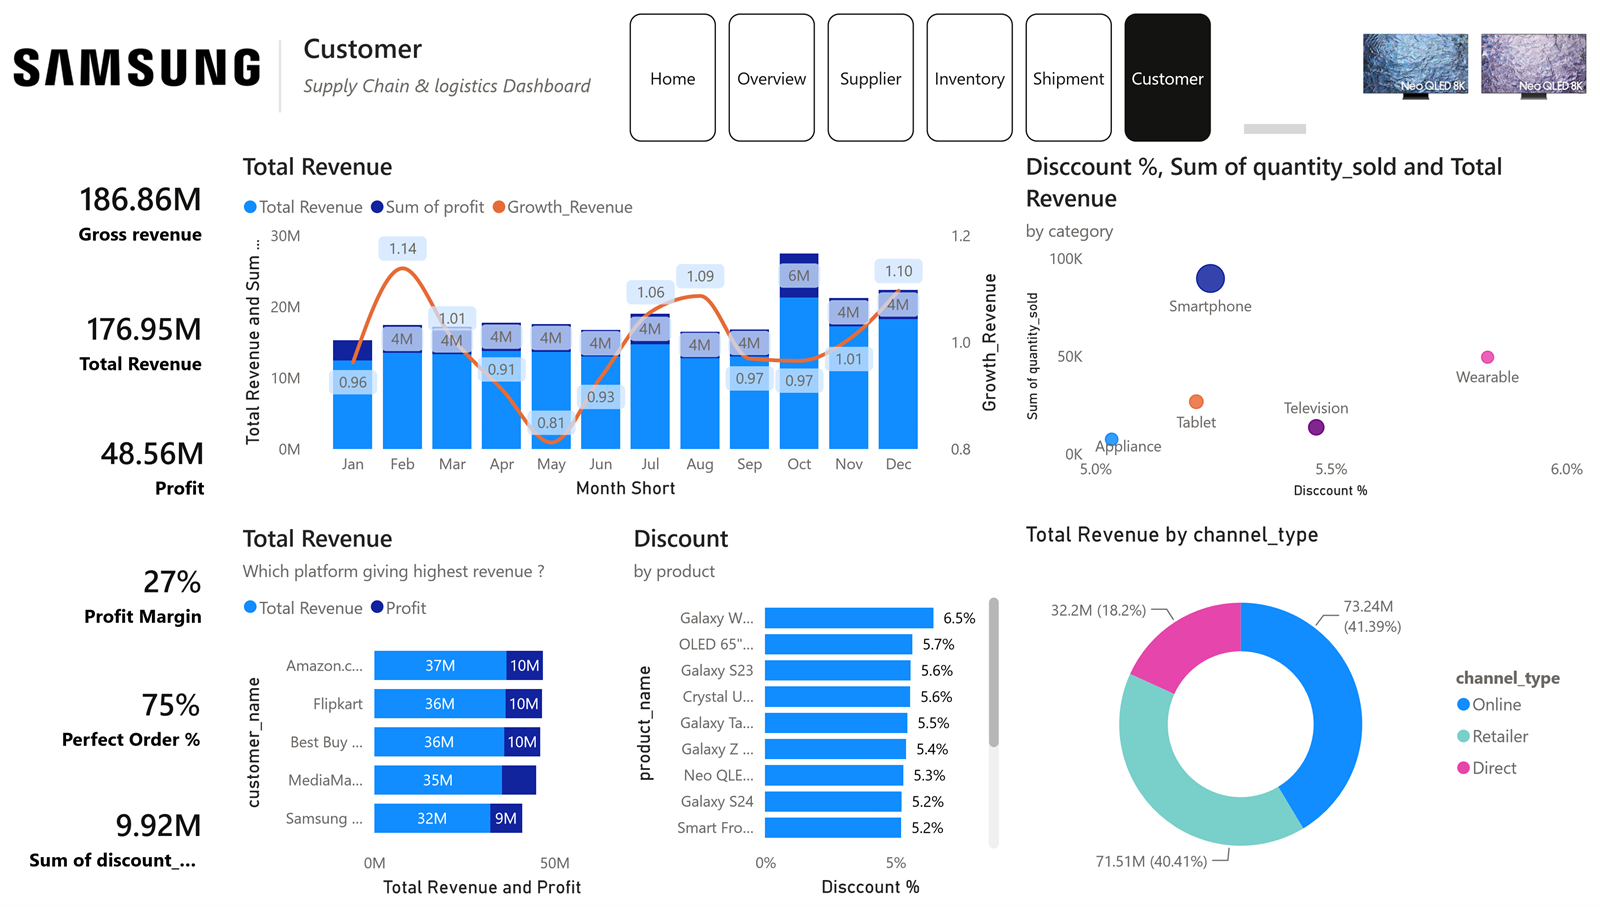

What the dashboard file says about the page in this screenshot:
{"tool":"powerbi","page":{"name":"Customer","canvas":[1280,720],"ordinal":5},"visuals":[{"type":"pageNavigator","box":[509.9,9.8,459.2,101.4],"z":0,"group":"g3"},{"type":"shape","title":"Customer","box":[253.1,22,448.8,66],"z":0},{"type":"donutChart","fields":{"Category":["dim_customer.channel_type"],"Y":["Measures-.Total Revenue"]},"box":[816.9,409.9,449.3,301.4],"z":0,"group":"g2"},{"type":"advancedSlicerVisual","fields":{"Values":["dim_product.product_name"]},"box":[989,5.8,281.7,105.6],"z":1000,"group":"g3"},{"type":"shape","box":[200.5,30.6,67.3,57.5],"z":1000},{"type":"image","box":[8.6,6.1,216.4,91.7],"z":2000},{"type":"group","id":"g1","title":"Group 2","box":[5.6,107,198.6,604.2],"z":3000},{"type":"cardVisual","fields":{"Data":["Measure Table.Total Revenue"]},"box":[5.6,210.5,196.1,114.7],"z":4000,"group":"g1"},{"type":"barChart","title":"Total Revenue","fields":{"Category":["dim_customer.customer_name"],"Y":["Measures-.Total Revenue","Measures-.Profit"]},"box":[200,409.9,295.8,301.4],"z":4000},{"type":"cardVisual","fields":{"Data":["Measure Table.Profit"]},"box":[5.7,306.7,198.6,118.4],"z":5000,"group":"g1"},{"type":"group","id":"g2","title":"Group 1","box":[816.9,409.9,449.3,301.4],"z":5000},{"type":"lineStackedColumnComboChart","title":"Total Revenue","fields":{"Category":["dim_date.Month Short"],"Y":["Measures-.Total Revenue","Sum(fact_sales.profit)"],"Y2":["Measures-.Growth_Revenue"]},"box":[200,116.9,605.6,280.3],"z":6000},{"type":"cardVisual","fields":{"Data":["Measure Table.Profit Margin"]},"box":[7.2,406.6,194.9,120.8],"z":6000,"group":"g1"},{"type":"scatterChart","fields":{"X":["Measures-.Disccount %"],"Y":["Sum(fact_sales.quantity_sold)"],"Series":["dim_product.category"],"Size":["Measures-.Total Revenue"]},"box":[816.9,116.9,449.3,280.3],"z":7000},{"type":"cardVisual","fields":{"Data":["Sum(fact_sales.discount_amount)"]},"box":[7.5,605.5,194.9,106],"z":7000,"group":"g1"},{"type":"clusteredBarChart","title":"Discount ","fields":{"Category":["dim_product.product_name"],"Y":["Measures-.Disccount %"]},"box":[508.5,409.9,297.2,301.4],"z":8000},{"type":"cardVisual","fields":{"Data":["Measure Table.Perfect Order %"]},"box":[7.2,505.3,193.7,118.4],"z":8000,"group":"g1"},{"type":"group","id":"g3","title":"Group 1","box":[509.9,5.8,760.8,105.6],"z":9000},{"type":"cardVisual","fields":{"Data":["Sum(fact_sales.gross_revenue)"]},"box":[7.2,107,194.9,117.1],"z":9000,"group":"g1"}]}

Visuals, with their boxes in screenshot pixels (x1, y1, x2, y2), scaled from the page's 1280x720 canvas onto the 1600x907 screenshot:
pageNavigator: x1=637, y1=12, x2=1211, y2=140
"Customer" shape: x1=316, y1=28, x2=877, y2=111
donutChart - dim_customer.channel_type x Measures-.Total Revenue: x1=1021, y1=516, x2=1583, y2=896
advancedSlicerVisual - dim_product.product_name: x1=1236, y1=7, x2=1588, y2=140
shape: x1=251, y1=39, x2=335, y2=111
image: x1=11, y1=8, x2=281, y2=123
"Group 2" group: x1=7, y1=135, x2=255, y2=896
cardVisual - Measure Table.Total Revenue: x1=7, y1=265, x2=252, y2=410
"Total Revenue" barChart: x1=250, y1=516, x2=620, y2=896
cardVisual - Measure Table.Profit: x1=7, y1=386, x2=255, y2=536
"Group 1" group: x1=1021, y1=516, x2=1583, y2=896
"Total Revenue" lineStackedColumnComboChart: x1=250, y1=147, x2=1007, y2=500
cardVisual - Measure Table.Profit Margin: x1=9, y1=512, x2=253, y2=664
scatterChart - Measures-.Disccount % x Sum(fact_sales.quantity_sold): x1=1021, y1=147, x2=1583, y2=500
cardVisual - Sum(fact_sales.discount_amount): x1=9, y1=763, x2=253, y2=896
"Discount " clusteredBarChart: x1=636, y1=516, x2=1007, y2=896
cardVisual - Measure Table.Perfect Order %: x1=9, y1=637, x2=251, y2=786
"Group 1" group: x1=637, y1=7, x2=1588, y2=140
cardVisual - Sum(fact_sales.gross_revenue): x1=9, y1=135, x2=253, y2=282
